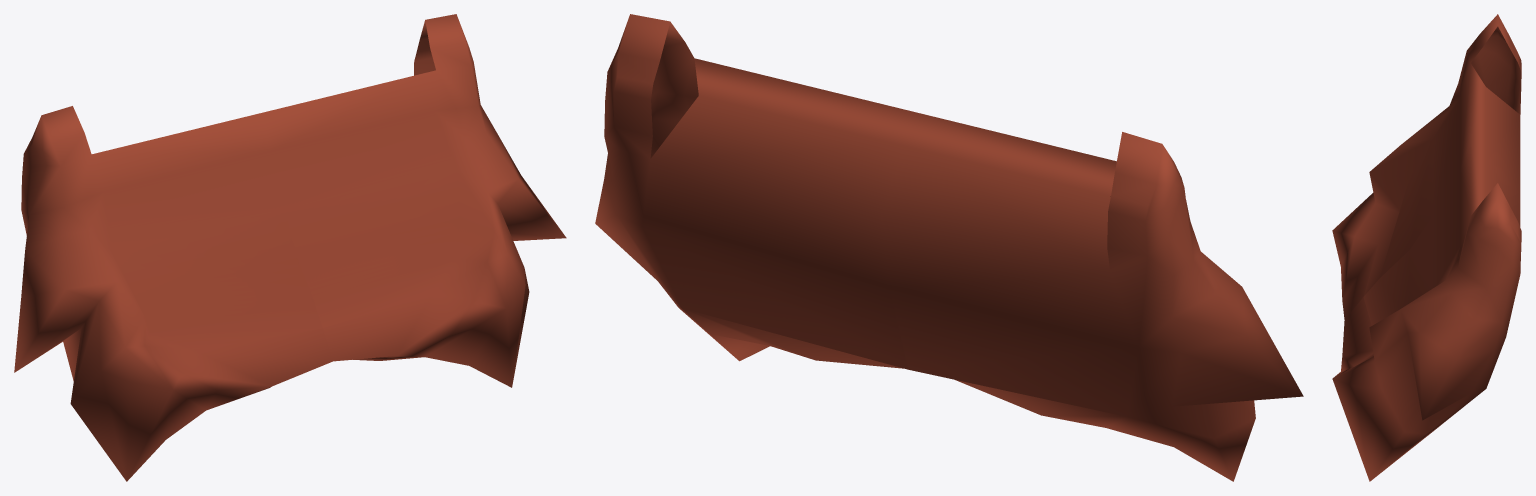
The model's file is Beard_Brown_11.fbx.
3 renders of one model, left to right at view 1: azimuth 30°, elevation 25°; view 2: azimuth 150°, elevation 25°; view 3: azimuth 270°, elevation 25°, orthographic. The views are drawn at different scales.
Parts seen in each view (by area): view 1: Beard_Brown_11; view 2: Beard_Brown_11; view 3: Beard_Brown_11.
Boxes of the visible parts, x1,y1,x2,y2 form: Beard_Brown_11: (14, 14, 566, 481); Beard_Brown_11: (595, 14, 1303, 481); Beard_Brown_11: (1332, 14, 1521, 481).
Size of the model in its own units: 66 by 36.6 by 21.51.
